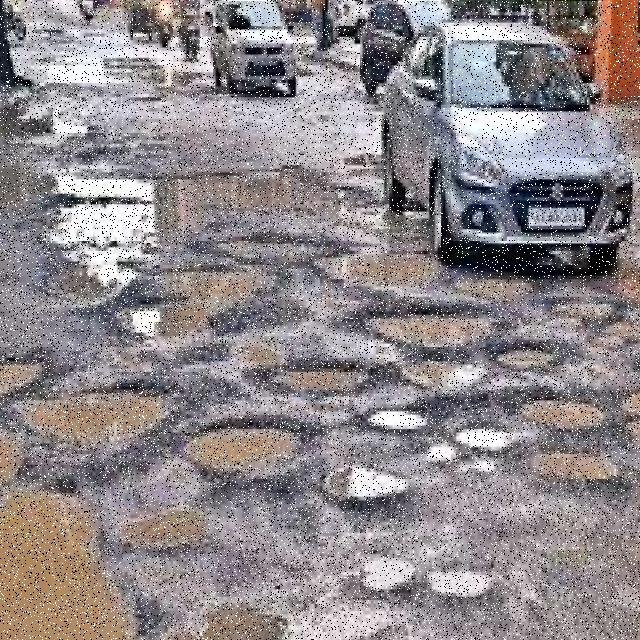pothole: (71, 211, 250, 318), (0, 515, 123, 640), (31, 397, 160, 440), (192, 440, 285, 483), (371, 315, 491, 347), (283, 354, 355, 397), (328, 254, 424, 286), (248, 408, 309, 450), (523, 401, 603, 433), (534, 454, 616, 479)
